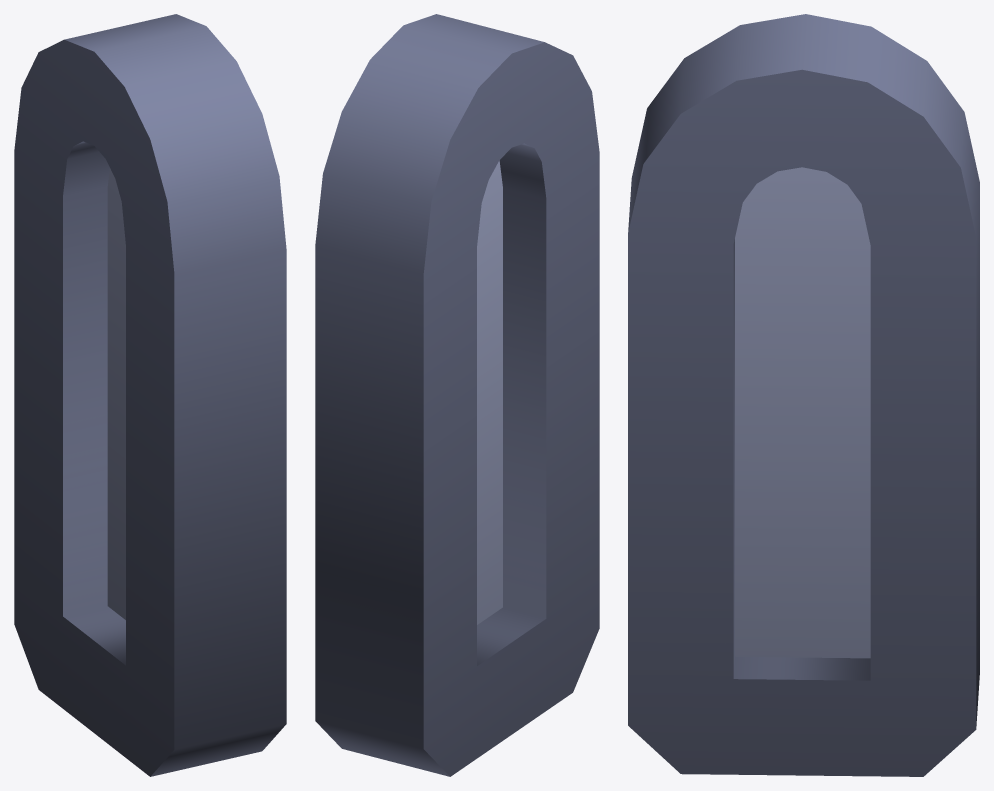
File: door.003_lev2.glb
The picture shows the model from 3 angles, left to right: view 1: azimuth 30°, elevation 25°; view 2: azimuth 150°, elevation 25°; view 3: azimuth 270°, elevation 25°; orthographic projection. The views are drawn at different scales.
Visible parts, largest first — view 1: door.003_lev2; view 2: door.003_lev2; view 3: door.003_lev2.
Boxes of the visible parts, x1,y1,x2,y2 form: door.003_lev2: (14,14,286,776); door.003_lev2: (315,14,599,776); door.003_lev2: (628,14,979,776).
Bounding box in the file's own units: 1.07 × 5.9 × 2.67.
1 material, 1 textured.
